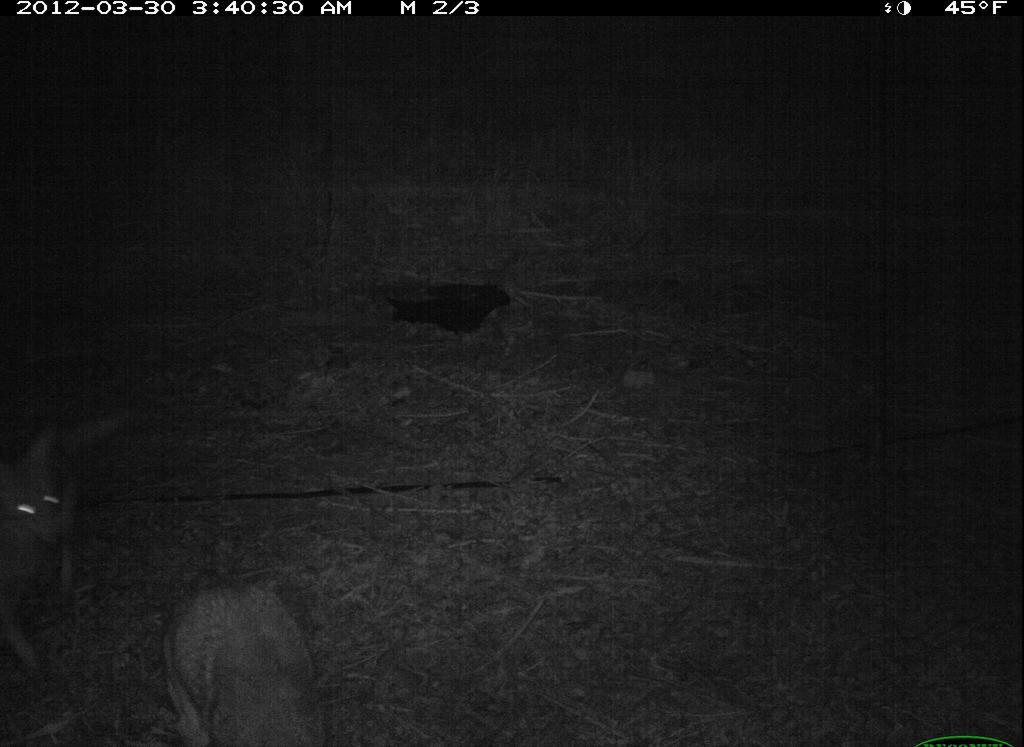coyote: (137, 576, 341, 747), (3, 396, 112, 579)
